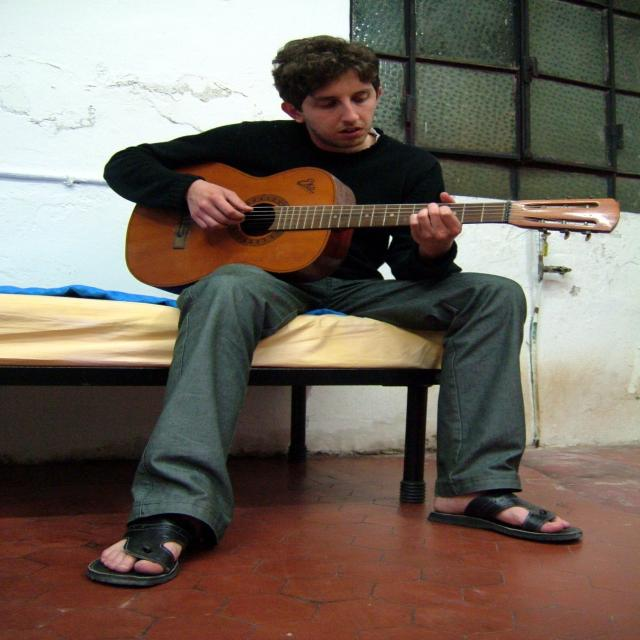guitar: (125, 162, 621, 287)
